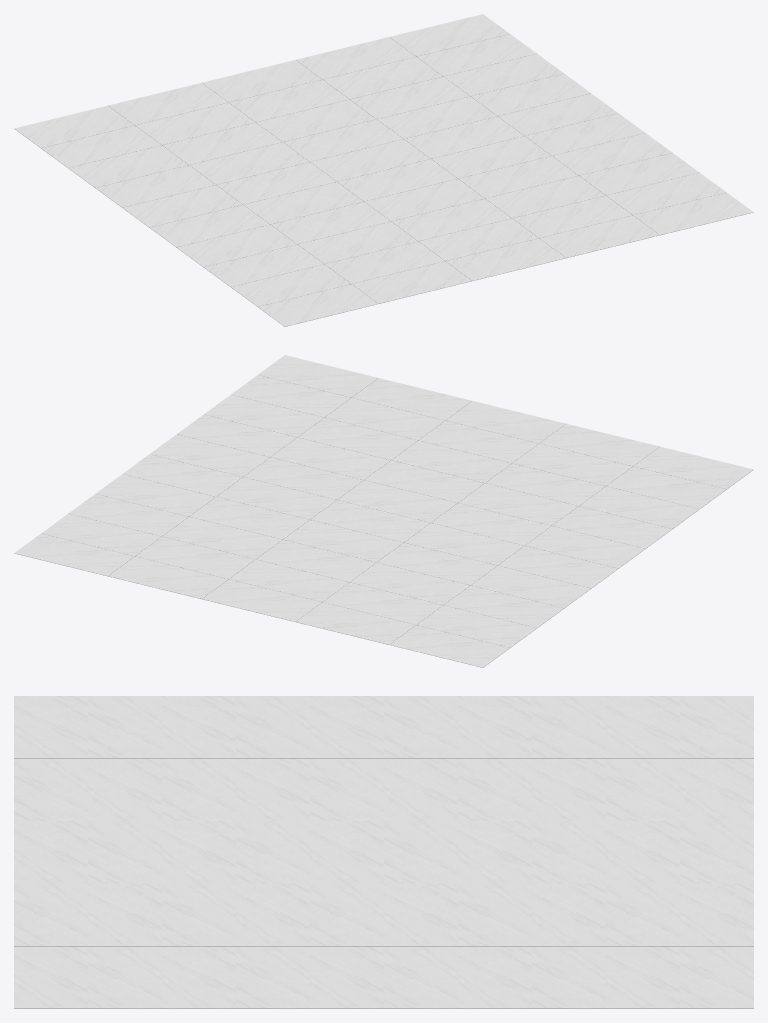
File: aurea-80x160.glb
The picture shows the model from 3 angles, top to bottom: view 1: azimuth 30°, elevation 25°; view 2: azimuth 150°, elevation 25°; view 3: azimuth 270°, elevation 25°; orthographic projection. The views are drawn at different scales.
Parts seen in each view (by area): view 1: Aurea; view 2: Aurea; view 3: Aurea.
Boxes of the visible parts, x1,y1,x2,y2 form: Aurea: [14, 14, 753, 326]; Aurea: [14, 355, 753, 667]; Aurea: [14, 696, 753, 1008].
Bounding box in the file's own units: 8 × 0.003 × 8.
Materials: 2 (1 with a texture image).
